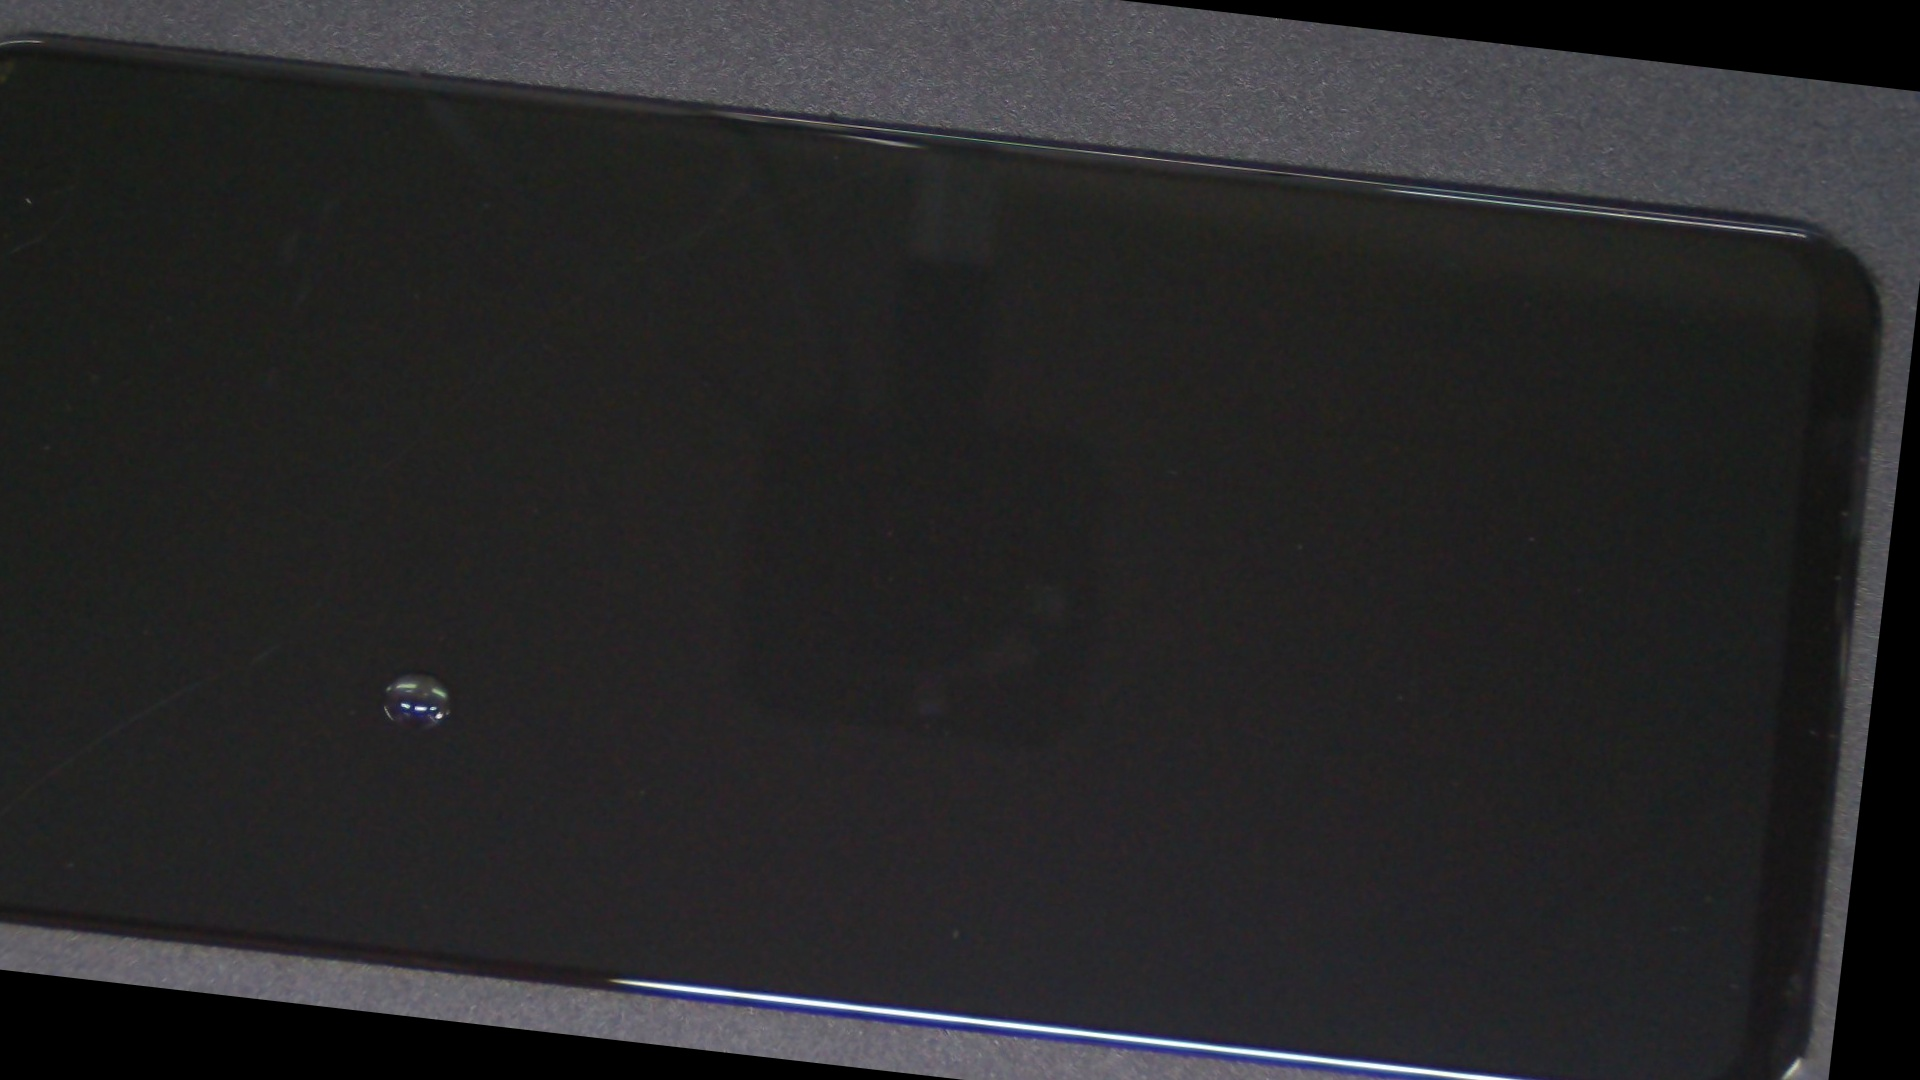oil: (86, 266, 750, 1046)
